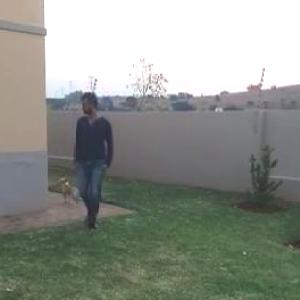follow: (60, 85, 108, 240)
